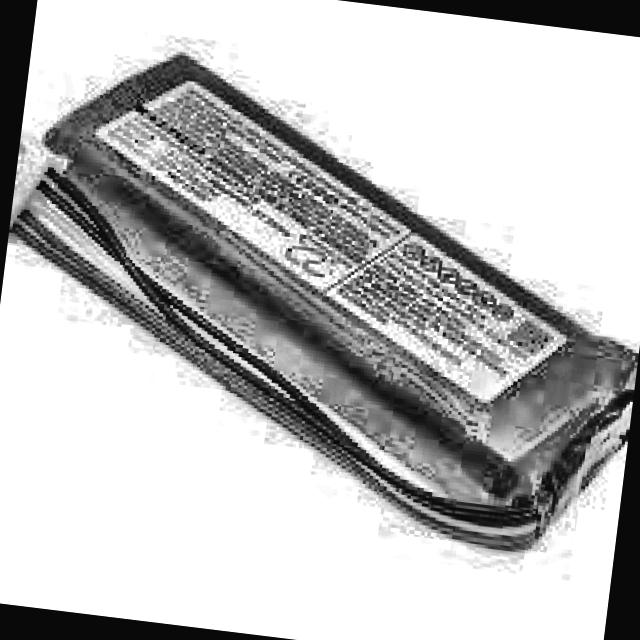Battery: (6, 42, 640, 533)
